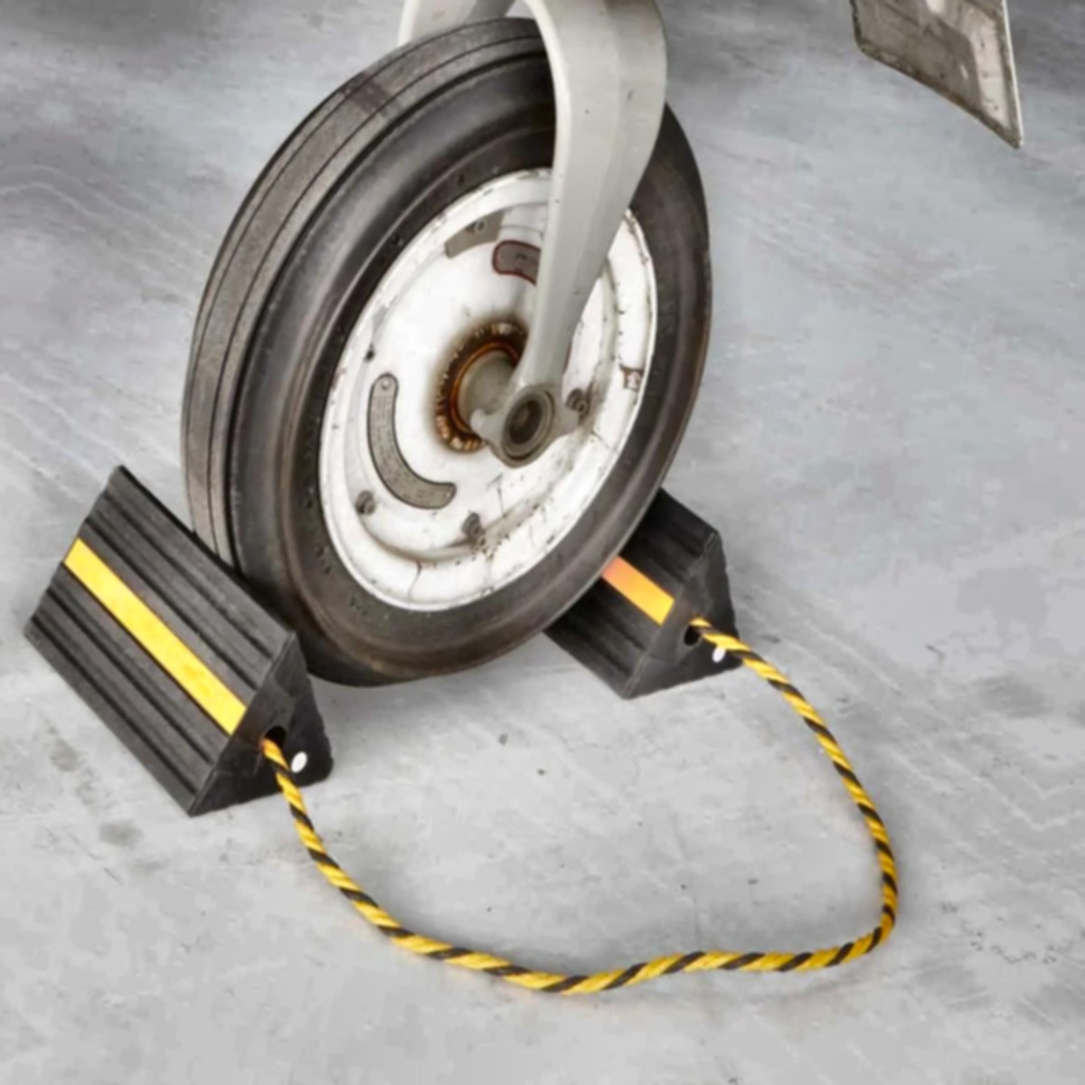chock: (0, 450, 392, 848), (404, 402, 783, 728)
wheel: (143, 0, 765, 733)
